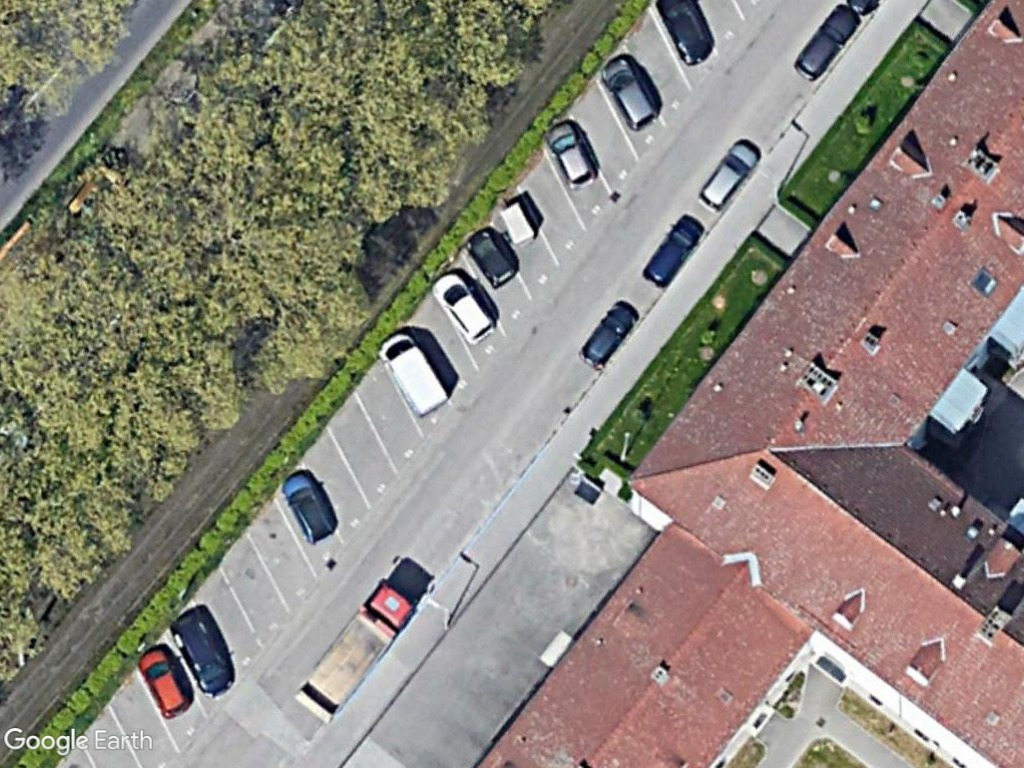car: (170, 609, 237, 698), (428, 269, 499, 349), (789, 4, 859, 81), (695, 141, 760, 216), (639, 212, 704, 287), (599, 53, 660, 131), (136, 643, 193, 724), (539, 118, 600, 192), (281, 469, 340, 545), (577, 300, 637, 372), (464, 227, 520, 289)
other: (291, 578, 418, 724)
van: (378, 328, 453, 421)
